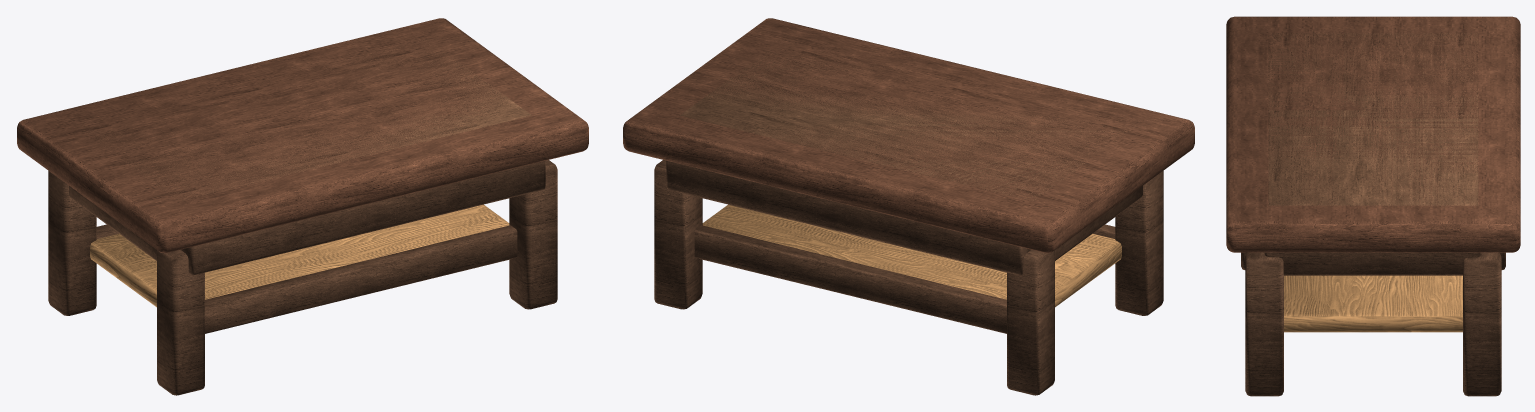
The model's file is asset_069_lounge_coffee_table_sheet07.glb.
3 views of the same model, side by side, from view 1: azimuth 30°, elevation 25°; view 2: azimuth 150°, elevation 25°; view 3: azimuth 270°, elevation 25° (orthographic).
Visible parts, largest first — view 1: MESH_CoffeeTableTop, MESH_CoffeeTableLegSet, MESH_CoffeeTableApronFrame, MESH_CoffeeTableShelfTrim, MESH_CoffeeTableLowerShelf, MESH_CoffeeTableInset; view 2: MESH_CoffeeTableTop, MESH_CoffeeTableInset, MESH_CoffeeTableLegSet, MESH_CoffeeTableApronFrame, MESH_CoffeeTableShelfTrim, MESH_CoffeeTableLowerShelf; view 3: MESH_CoffeeTableTop, MESH_CoffeeTableInset, MESH_CoffeeTableLegSet, MESH_CoffeeTableLowerShelf, MESH_CoffeeTableApronFrame.
Boxes of the visible parts, <box> form: MESH_CoffeeTableTop: <box>17,18,588,253</box>; MESH_CoffeeTableLegSet: <box>48,160,557,395</box>; MESH_CoffeeTableApronFrame: <box>69,160,545,275</box>; MESH_CoffeeTableShelfTrim: <box>96,224,517,333</box>; MESH_CoffeeTableLowerShelf: <box>90,204,509,307</box>; MESH_CoffeeTableInset: <box>83,39,531,200</box>; MESH_CoffeeTableTop: <box>623,18,1194,253</box>; MESH_CoffeeTableInset: <box>680,40,1129,200</box>; MESH_CoffeeTableLegSet: <box>654,160,1163,395</box>; MESH_CoffeeTableApronFrame: <box>666,160,1142,275</box>; MESH_CoffeeTableShelfTrim: <box>694,224,1115,333</box>; MESH_CoffeeTableLowerShelf: <box>702,204,1121,307</box>; MESH_CoffeeTableTop: <box>1226,16,1520,252</box>; MESH_CoffeeTableInset: <box>1268,33,1478,205</box>; MESH_CoffeeTableLegSet: <box>1245,252,1501,396</box>; MESH_CoffeeTableLowerShelf: <box>1284,275,1462,332</box>; MESH_CoffeeTableApronFrame: <box>1241,252,1505,275</box>.
Bounding box in the file's own units: 1.1 × 0.45 × 0.65.
5 materials, 4 textured.
